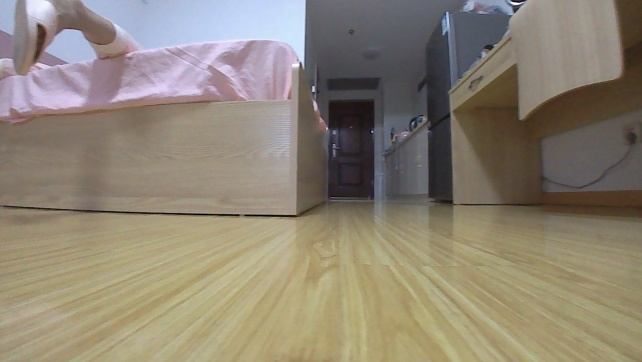bed: (0, 21, 326, 218)
cupboard: (385, 117, 428, 200)
door_anno: (326, 96, 375, 203)
refrigerator: (422, 10, 461, 201)
slipper: (11, 0, 63, 76)
wire: (541, 130, 637, 190)
